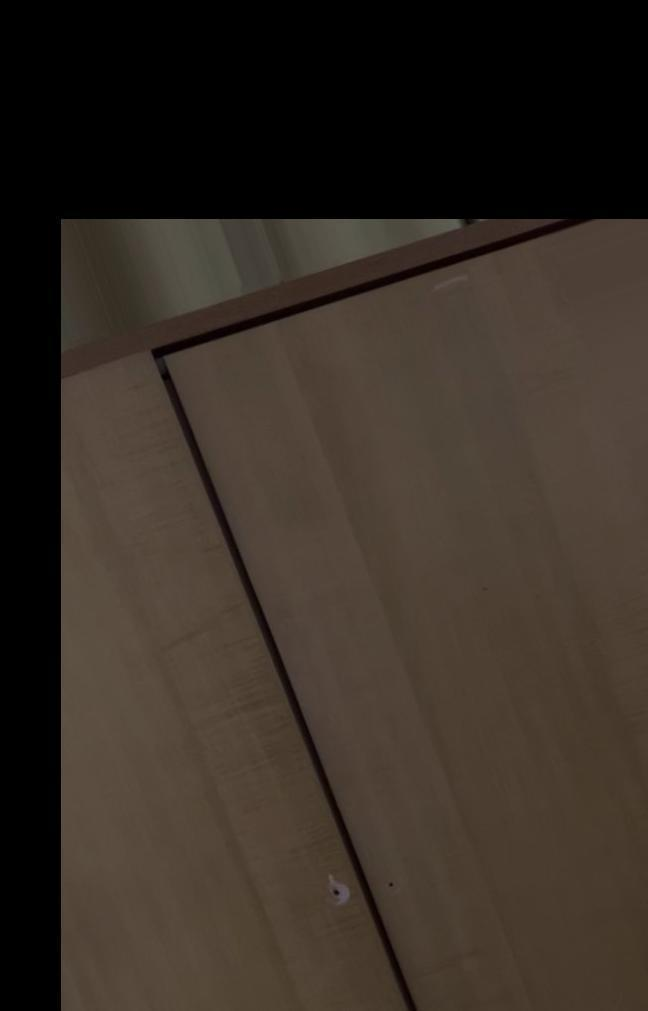Armario: (75, 247, 648, 1011)
